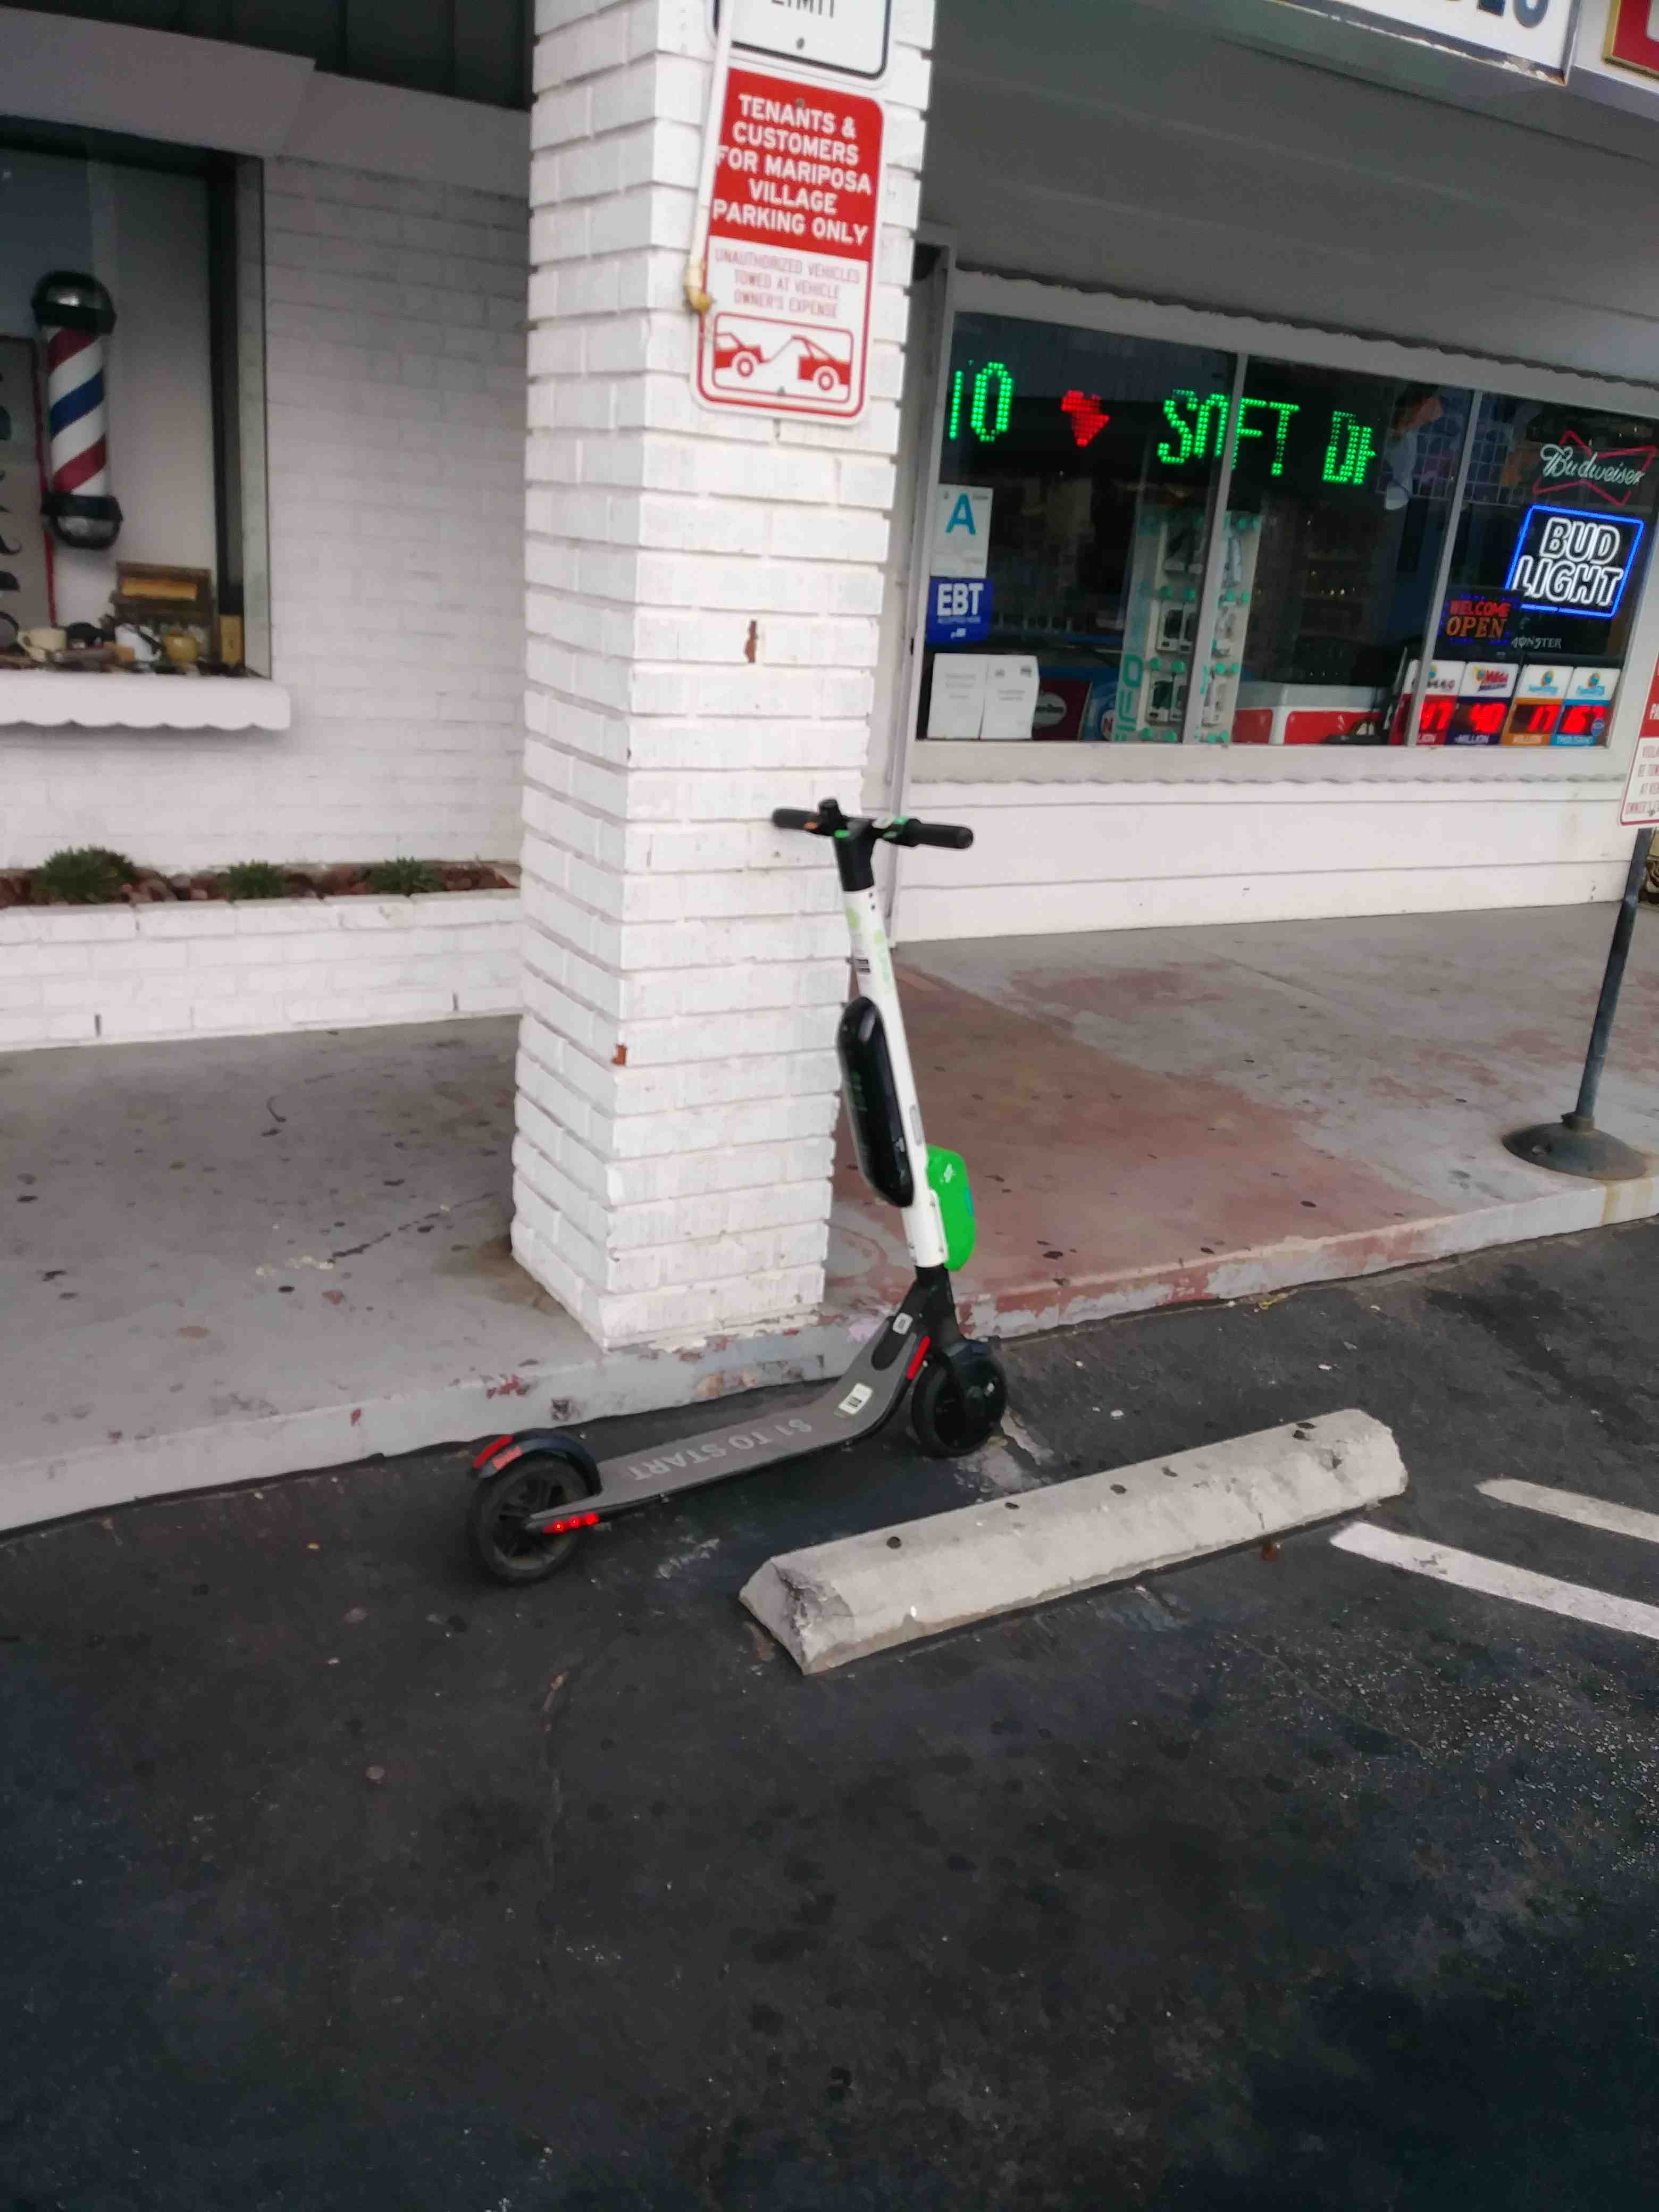scooter: (427, 751, 1046, 1620)
